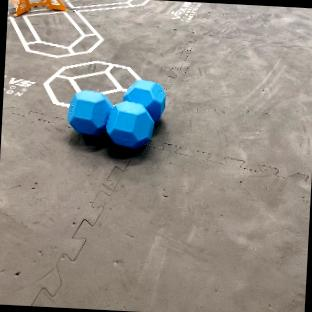V5_BLUE: (66, 78, 166, 150)
